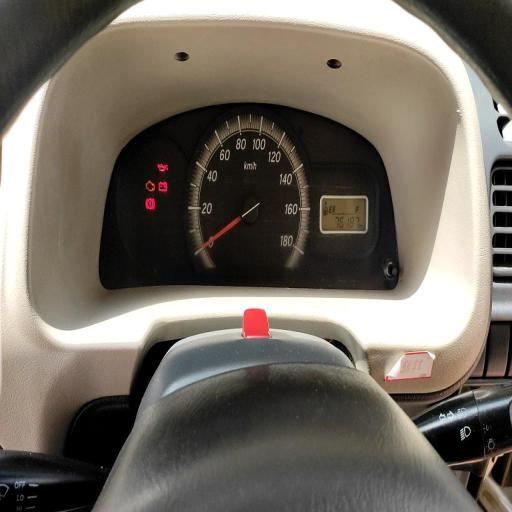brake_system_fault: (146, 197, 155, 210)
check_engine: (146, 180, 155, 191)
oil: (157, 164, 169, 172)
vehicle_charging: (158, 180, 168, 192)
